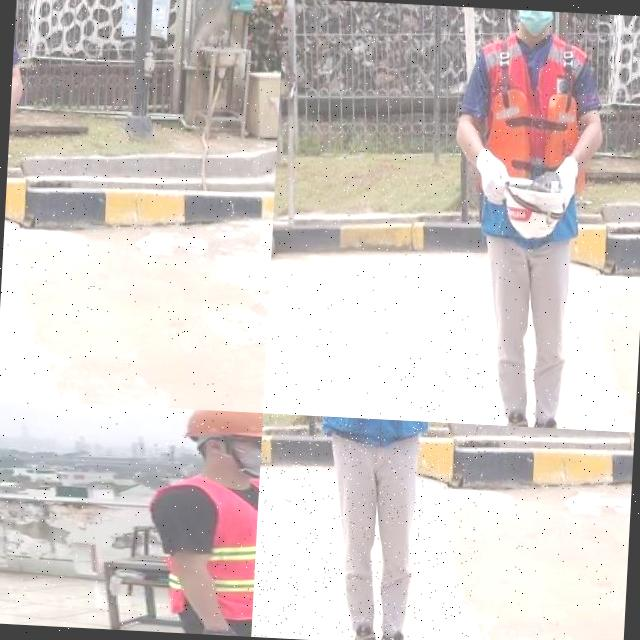boots: (530, 408, 572, 429), (346, 617, 378, 640), (498, 407, 530, 428), (378, 629, 418, 640)
helmet: (501, 172, 567, 246), (180, 409, 263, 439)
vest: (472, 32, 592, 244), (142, 475, 260, 617)
